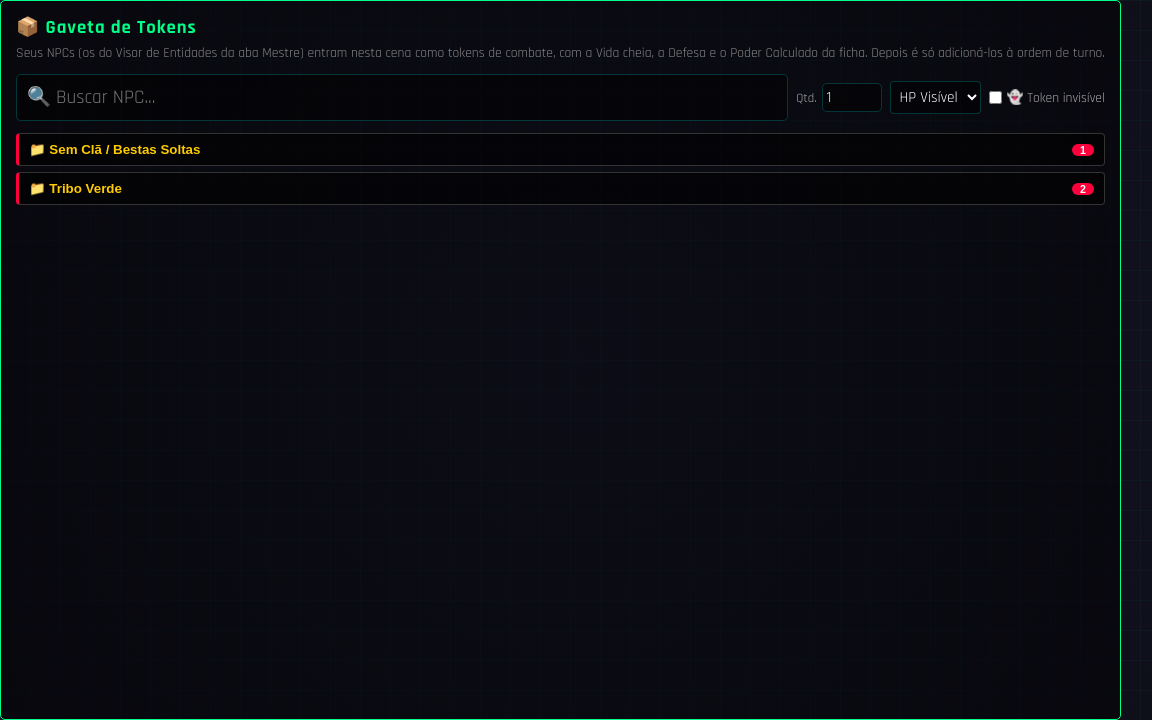
Gaveta de Tokens - lista de NPCs por familia › mostra quantos tokens do NPC ja estao NESTA cena
The image size is (1152, 720).
What coordinates should you click on to do the following:
click the button "📁 Tribo Verde 2"
I would click on:
 (86, 188)
Its box is [16,172,1105,205].
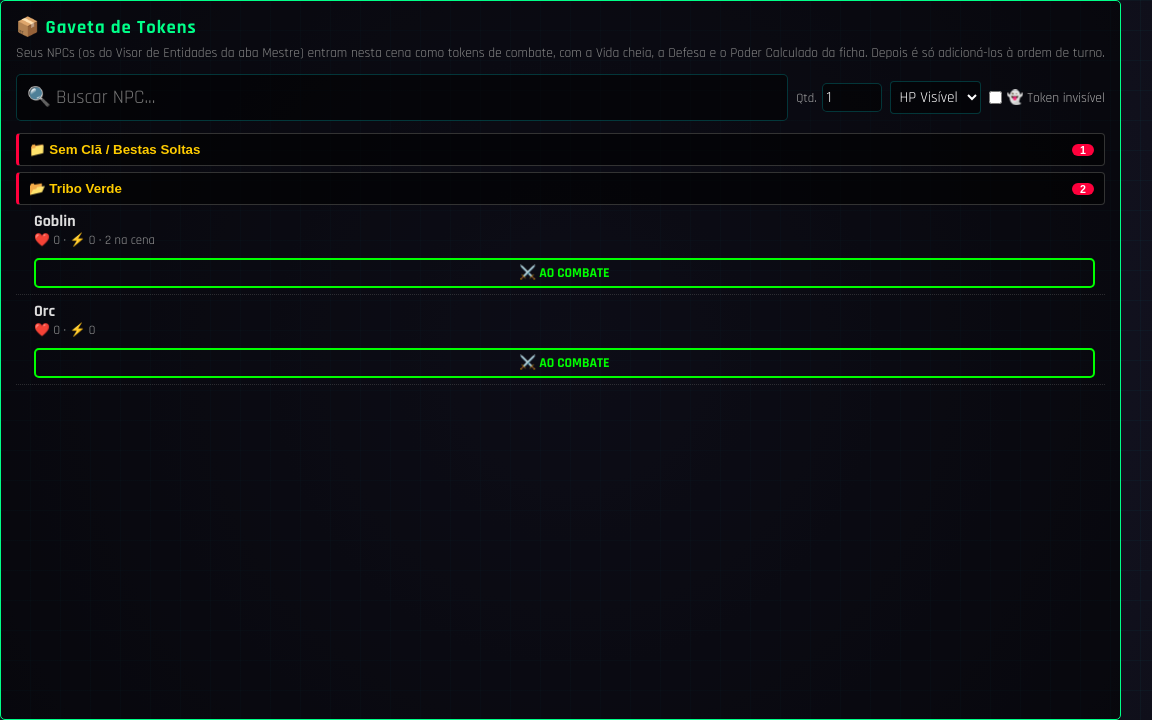
Expected: the text "Orc" does not show "na cena"
Now the text "Goblin" shows "2 na cena", box [95,232,155,248]
